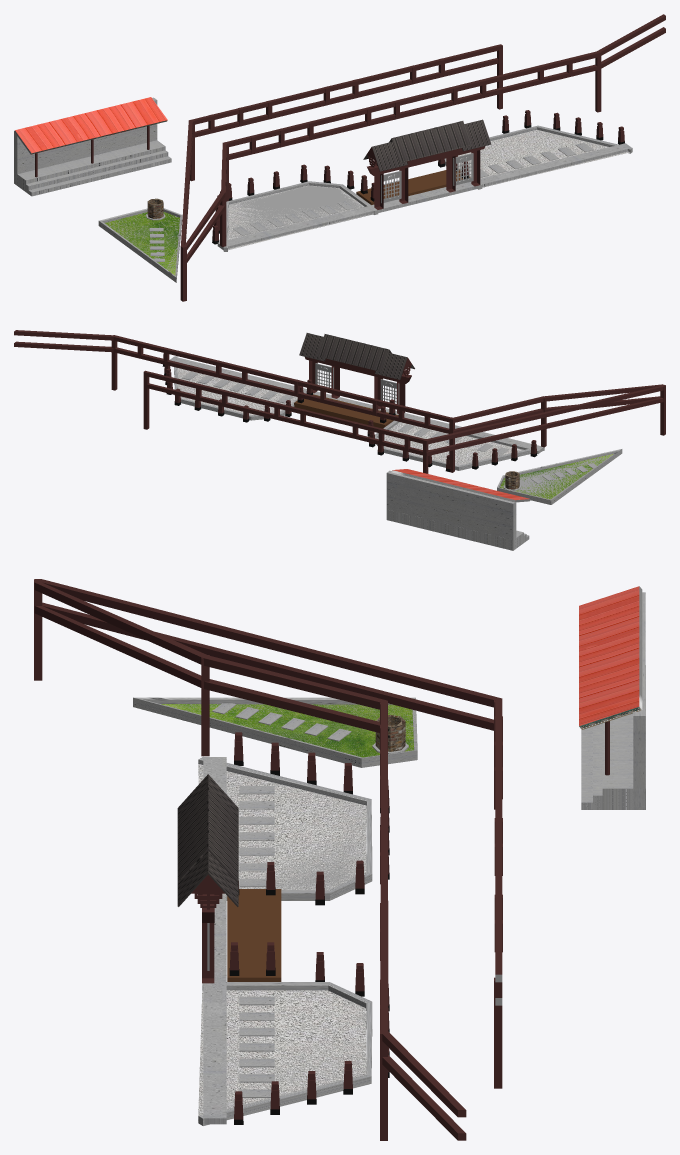
The model's file is vuonnhat.fbx.
3 renders of one model, top to bottom at view 1: azimuth 30°, elevation 25°; view 2: azimuth 150°, elevation 25°; view 3: azimuth 270°, elevation 25°, orthographic. The views are drawn at different scales.
Visible parts, largest first — view 1: CongtroiA2; view 2: CongtroiA2; view 3: CongtroiA2.
Part boxes in pixels (x1,y1,x2,y2): CongtroiA2: (14,14,665,301); CongtroiA2: (14,330,665,550); CongtroiA2: (34,579,645,1140).
Size of the model in its own units: 4571 by 542 by 2223.
Materials: 11 (7 with a texture image).
